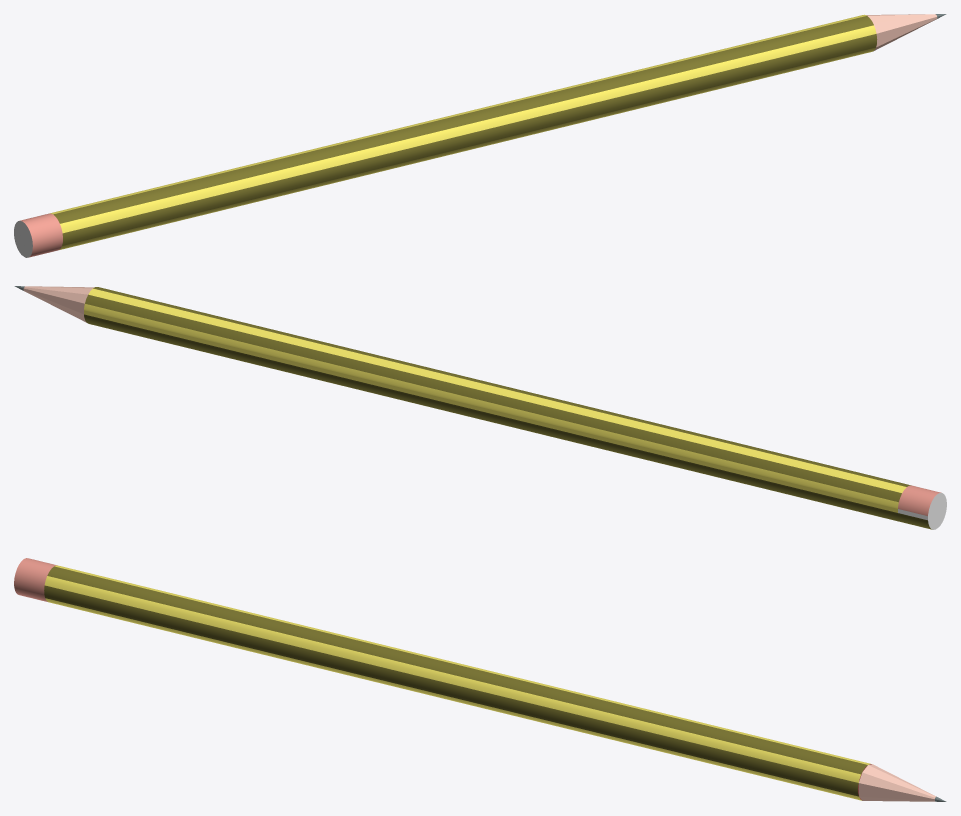
Rendered from olovka.fbx.
3 views of the same model, one above another, from view 1: azimuth 30°, elevation 25°; view 2: azimuth 150°, elevation 25°; view 3: azimuth 330°, elevation 25° (orthographic).
Parts seen in each view (by area): view 1: polySurface16; view 2: polySurface16; view 3: polySurface16.
Part boxes in pixels (bbox=[...]): polySurface16: bbox=[14, 14, 946, 257]; polySurface16: bbox=[14, 286, 946, 529]; polySurface16: bbox=[14, 558, 946, 801].
Bounding box in the file's own units: 266 × 9.49 × 9.49.
